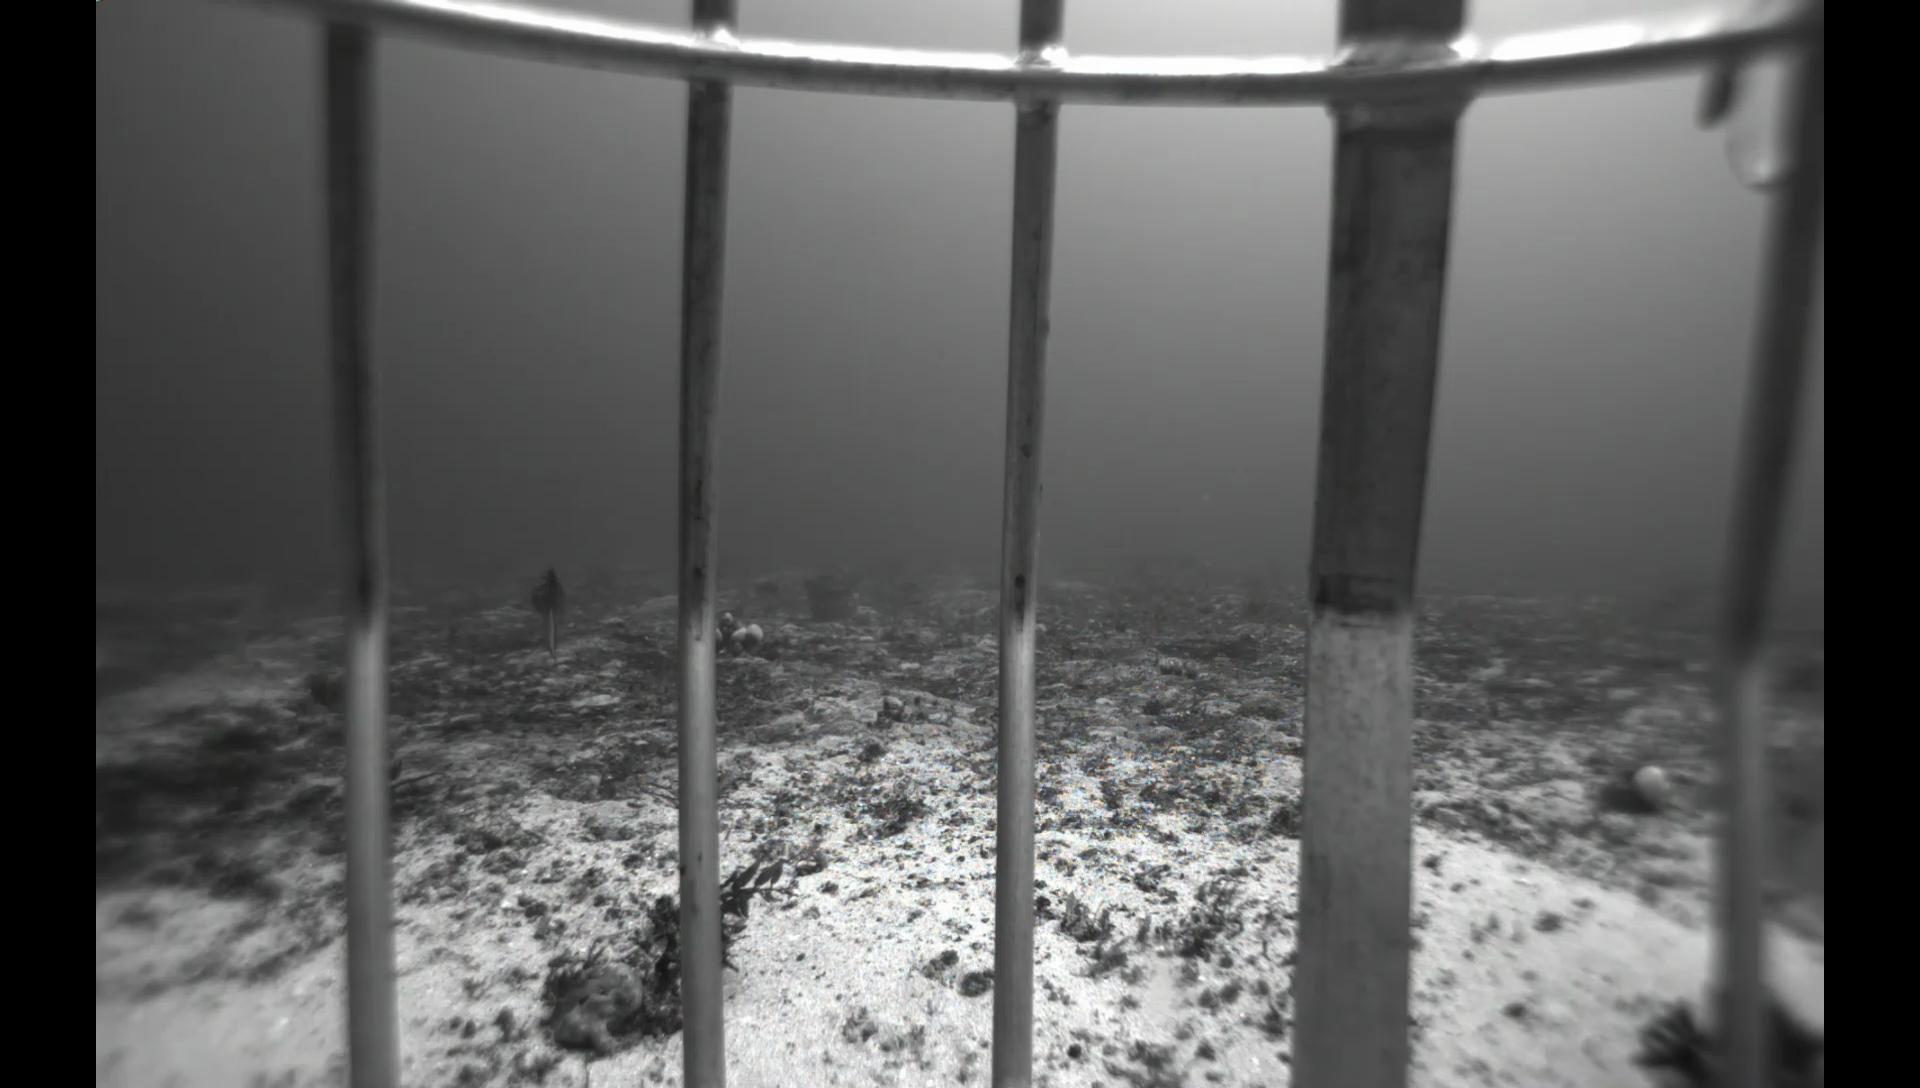CHAETODONOCELLATUS-170260307: (833, 557, 856, 578)
EPINEPHELUSMORIO-170021211: (516, 559, 572, 677)
PAGRUSPAGRUS-170212302: (1695, 748, 1822, 918)
PRISTIGENYSALTA-170050401: (306, 670, 401, 721)
